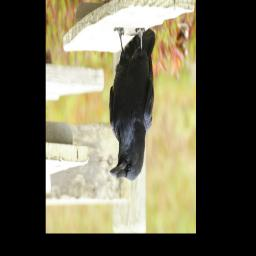Crow: (108, 27, 156, 182)
